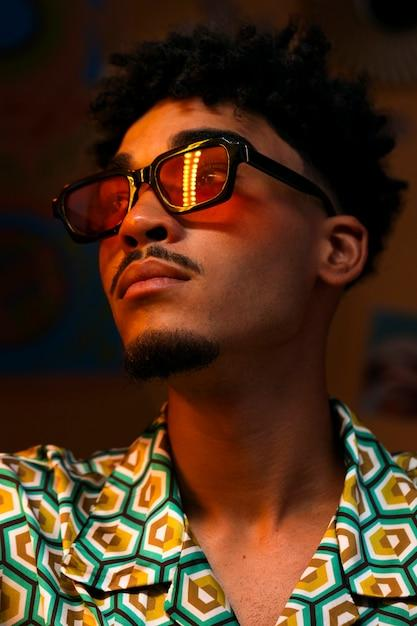sunglasses: (40, 127, 272, 242)
